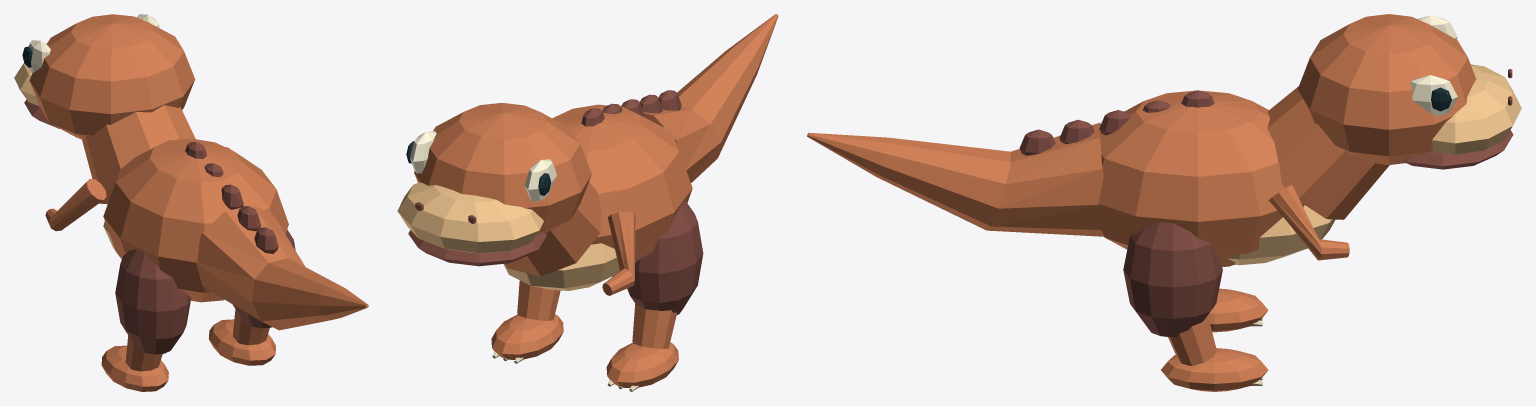
The model's file is tyrannosaurus.obj.
The picture shows the model from 3 angles, left to right: view 1: azimuth 30°, elevation 25°; view 2: azimuth 150°, elevation 25°; view 3: azimuth 270°, elevation 25°; orthographic projection. The views are drawn at different scales.
Visible parts, largest first — view 1: tyrannosaurus; view 2: tyrannosaurus; view 3: tyrannosaurus.
Part boxes in pixels (x1,y1,x2,y2): tyrannosaurus: (14, 14, 368, 391); tyrannosaurus: (397, 14, 778, 391); tyrannosaurus: (807, 14, 1521, 391).
Bounding box in the file's own units: 2.95 × 4.41 × 8.61.
